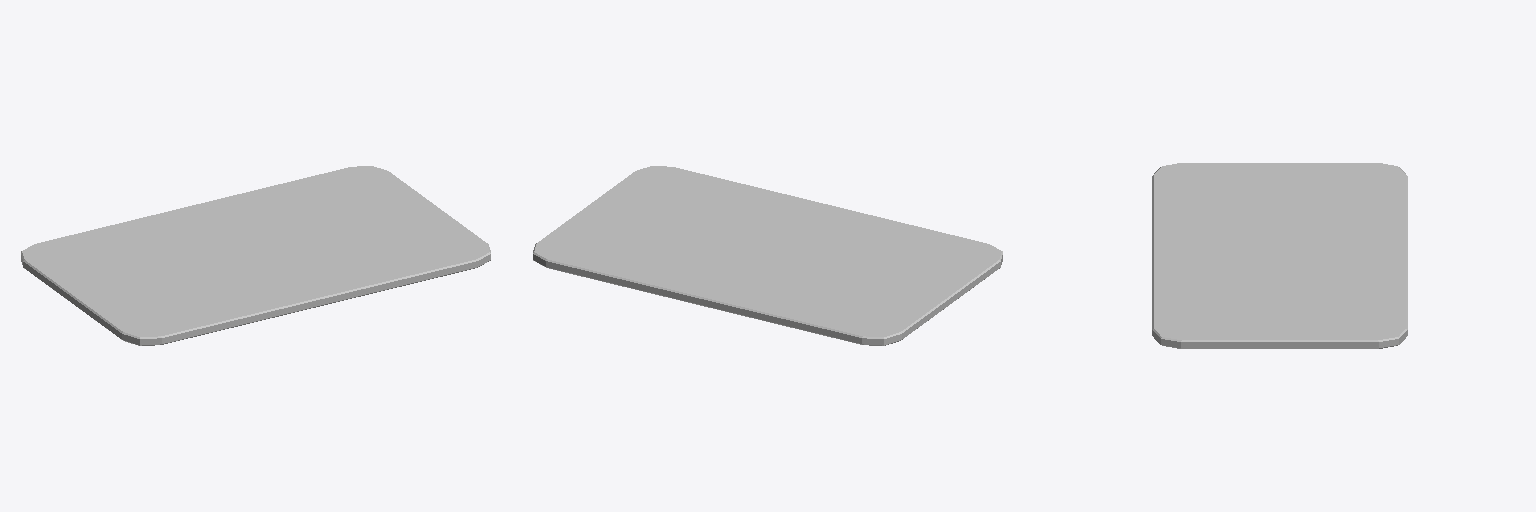
The model's file is board_cutting_board_plastic.obj.
3 renders of one model, left to right at view 1: azimuth 30°, elevation 25°; view 2: azimuth 150°, elevation 25°; view 3: azimuth 270°, elevation 25°, orthographic.
Parts seen in each view (by area): view 1: board_cutting_board_plastic_Cube.119; view 2: board_cutting_board_plastic_Cube.119; view 3: board_cutting_board_plastic_Cube.119.
Boxes of the visible parts, <box> form: board_cutting_board_plastic_Cube.119: <box>21,166,490,345</box>; board_cutting_board_plastic_Cube.119: <box>533,166,1002,345</box>; board_cutting_board_plastic_Cube.119: <box>1152,163,1407,348</box>.
Bounding box in the file's own units: 4.11 × 0.0947 × 2.48.